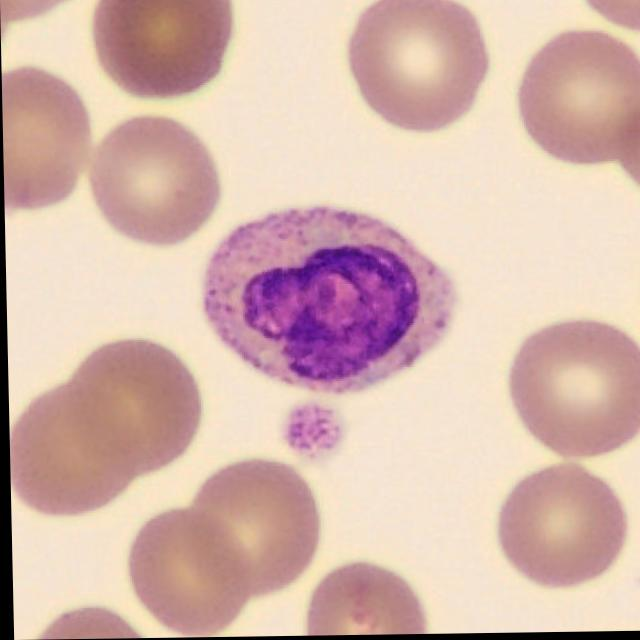Bastonete: (201, 209, 453, 395)
